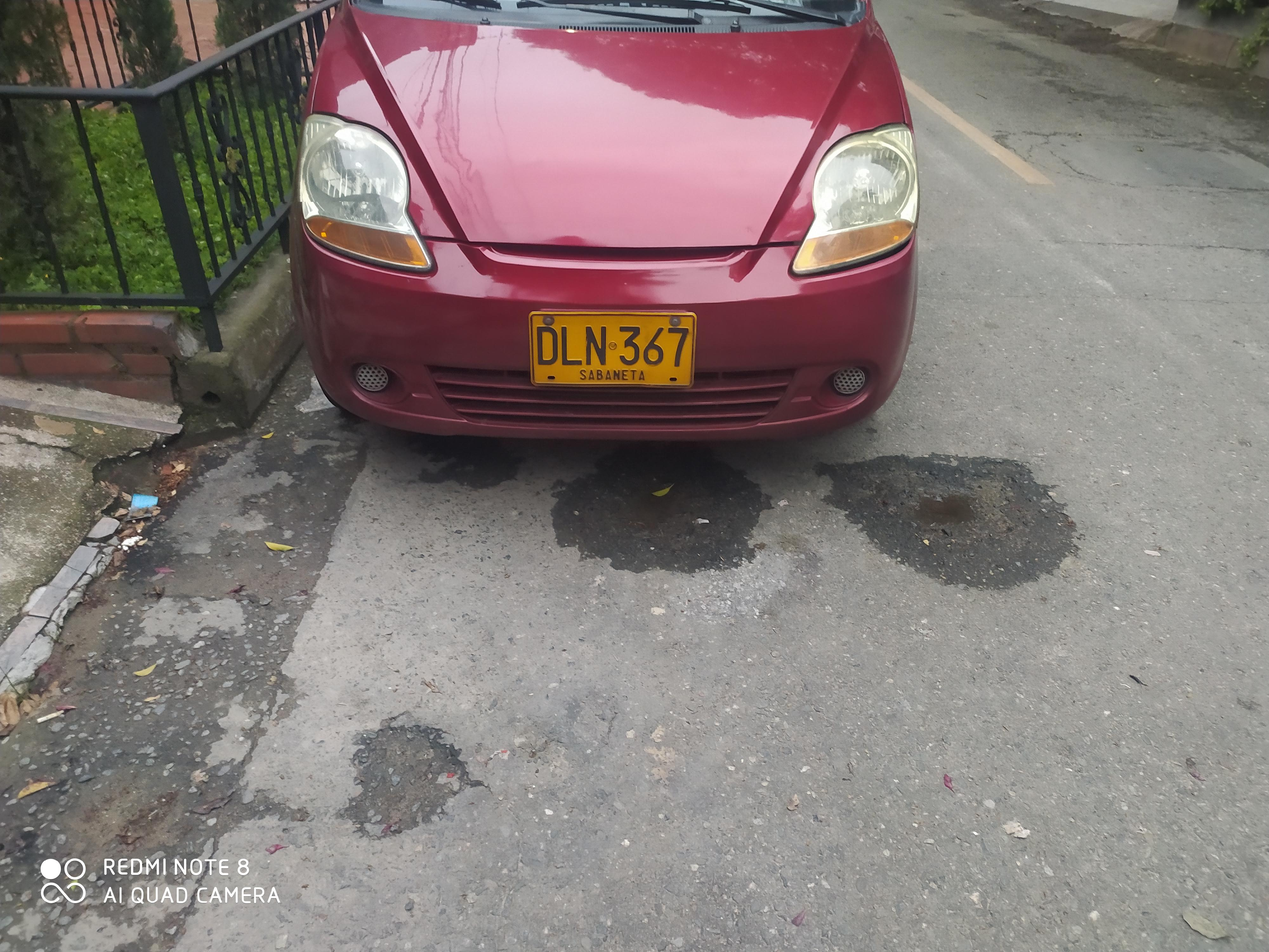placa: (513, 305, 711, 394)
